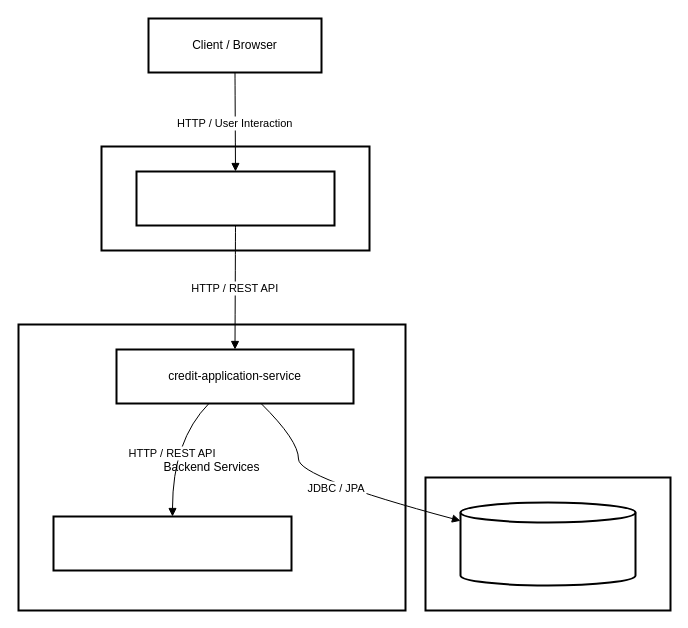
Image size: 688x628. Some labels were removed from this diagram. The shapes that lost their labels are listed below. From the top down, each one's centre as x and y in pixels, then its label:
point (235, 198): coopcredit-frontend
point (172, 543): risk-central-mock-service
point (547, 543): PostgreSQL Database
